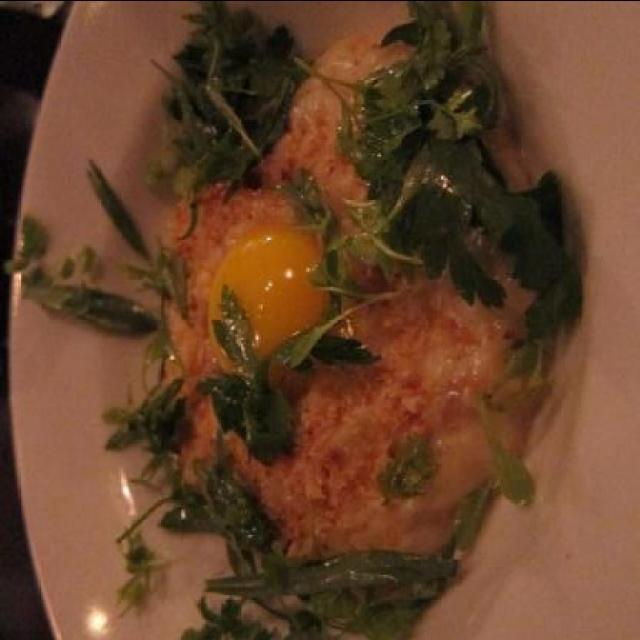Risotto: (160, 24, 523, 602)
